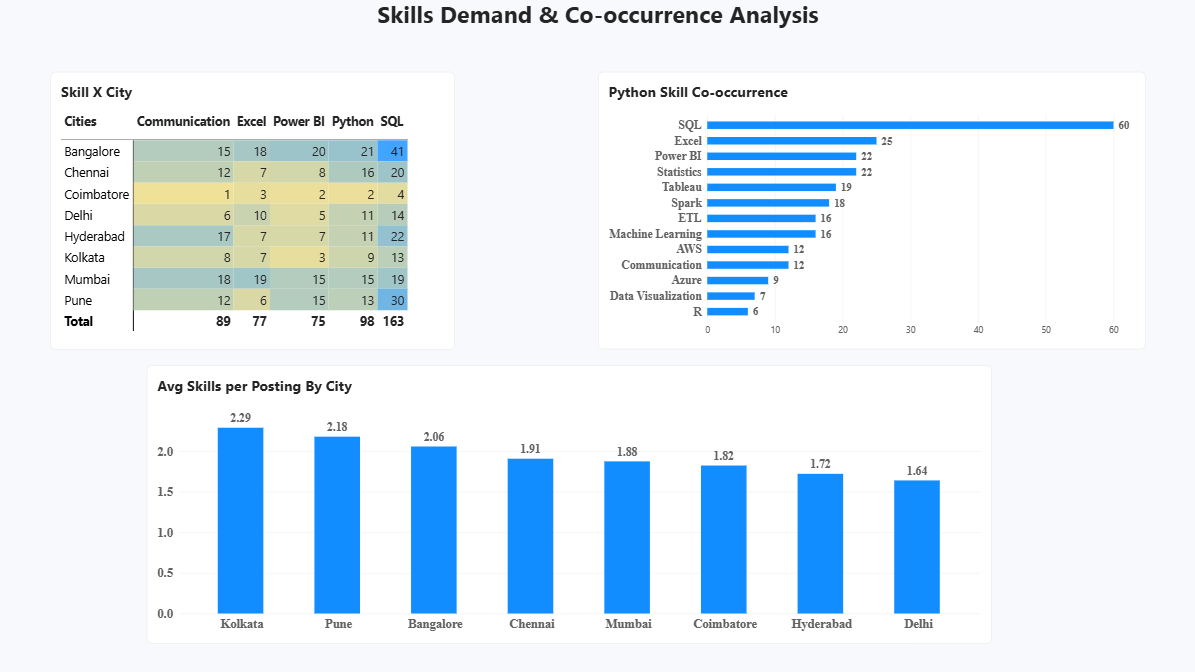

The page's visual inventory and layout, read from the dashboard file:
{"tool":"powerbi","page":{"name":"Skills Demand & Co-occurrence Analysis","canvas":[1920,1080],"ordinal":1},"visuals":[{"type":"pivotTable","title":"Skill X City","fields":{"Columns":["posting_skills.skill"],"Rows":["postings.city_query"],"Values":["CountNonNull(posting_skills.skill)"]},"box":[84.4,117.3,646.3,444.6],"z":0},{"type":"clusteredBarChart","title":"Python Skill Co-occurrence","fields":{"Category":["posting_skills.skill"],"Y":["posting_skills.Python Co-occurrence"]},"box":[959.2,117.3,876,444],"z":1000},{"type":"textbox","box":[584,0,752,66],"z":2000},{"type":"clusteredColumnChart","title":"Avg Skills per Posting By City","fields":{"Category":["postings.city_query"],"Y":["posting_skills.Avg Skills per Posting"]},"box":[238.8,588.7,1352.3,444.6],"z":3000}]}

Visuals, with their boxes in screenshot pixels (x1, y1, x2, y2), scaled from the page's 1920x1080 canvas onto the 1195x672 screenshot:
"Skill X City" pivotTable: <bbox>53, 73, 455, 350</bbox>
"Python Skill Co-occurrence" clusteredBarChart: <bbox>597, 73, 1142, 349</bbox>
textbox: <bbox>363, 0, 832, 41</bbox>
"Avg Skills per Posting By City" clusteredColumnChart: <bbox>149, 366, 990, 643</bbox>
